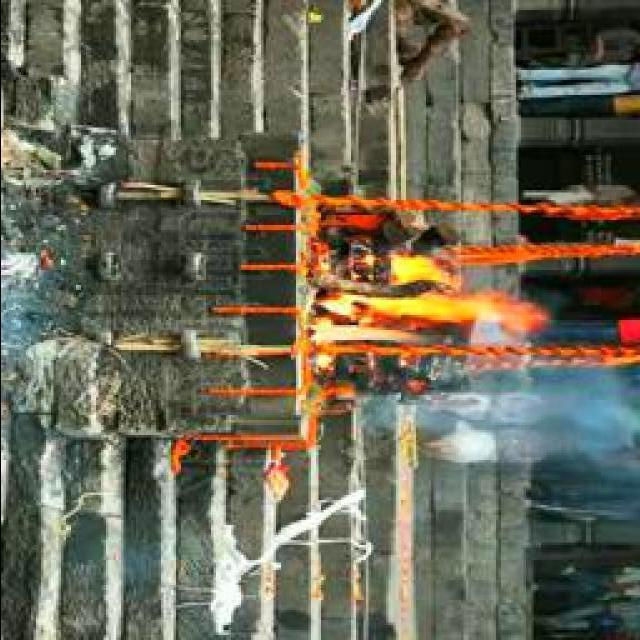Fire: (300, 254, 524, 350)
